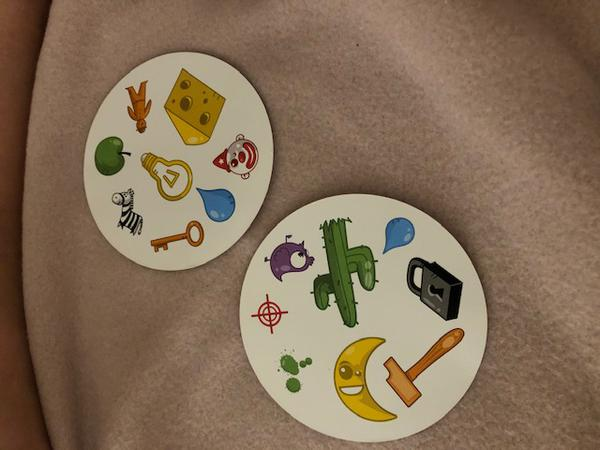ampoule: (138, 150, 193, 204)
bonhomme: (123, 75, 155, 139)
cactus: (311, 218, 378, 328)
cadenas: (402, 253, 463, 322)
cible: (253, 290, 289, 338)
cle: (150, 220, 205, 253)
clown: (210, 129, 261, 185)
fromage: (161, 66, 225, 148)
goutte: (194, 182, 237, 224), (378, 212, 415, 260)
lune: (331, 332, 396, 422)
marteau: (382, 328, 464, 406)
oiseau: (264, 232, 314, 281)
pomme: (92, 131, 133, 181)
tache: (273, 346, 318, 398)
zebre: (112, 187, 144, 237)
